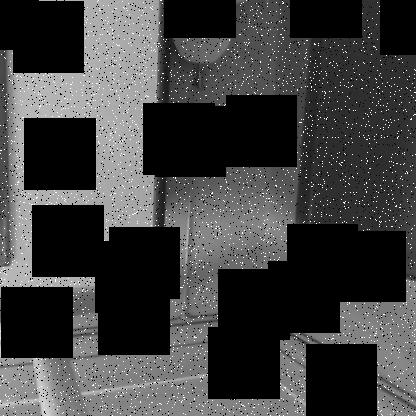Porte: (151, 0, 415, 283)
